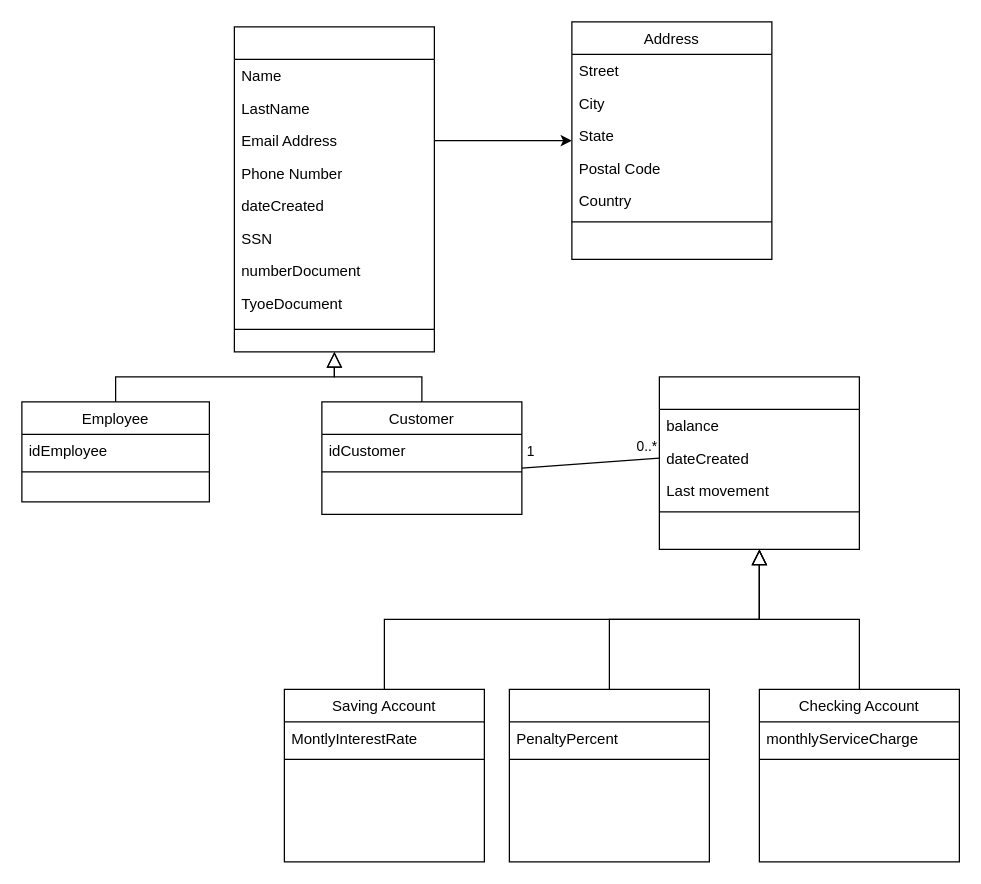
Image size: 981x884. Some labels were removed from this diagram. The box of each missing label's shape, as (x1, y1, x2, y2) in pixels:
Account: (658, 376, 859, 549)
Person: (233, 26, 434, 352)
Retirement Account: (508, 688, 709, 862)
